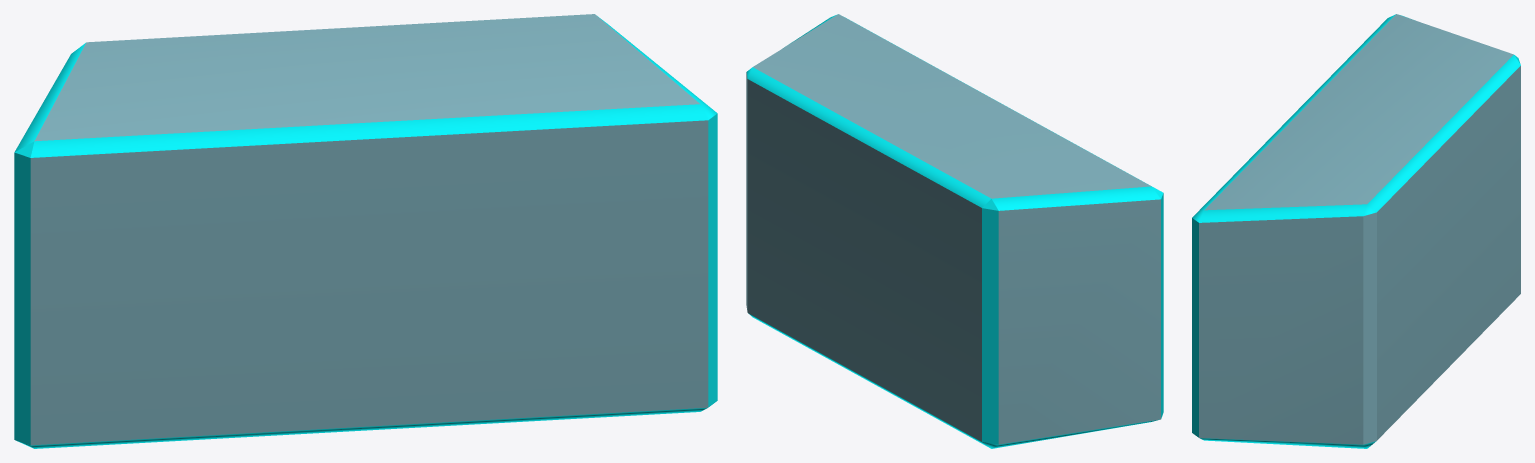
The model's file is BlueL1.fbx.
The picture shows the model from 3 angles, left to right: view 1: azimuth 30°, elevation 25°; view 2: azimuth 150°, elevation 25°; view 3: azimuth 270°, elevation 25°; orthographic projection. The views are drawn at different scales.
Visible parts, largest first — view 1: polySurface71; view 2: polySurface71; view 3: polySurface71.
Part boxes in pixels (x1,y1,x2,y2): polySurface71: [14, 14, 717, 448]; polySurface71: [746, 14, 1163, 448]; polySurface71: [1192, 14, 1520, 448].
Size of the model in its own units: 1.6 by 0.8798 by 1.07.
